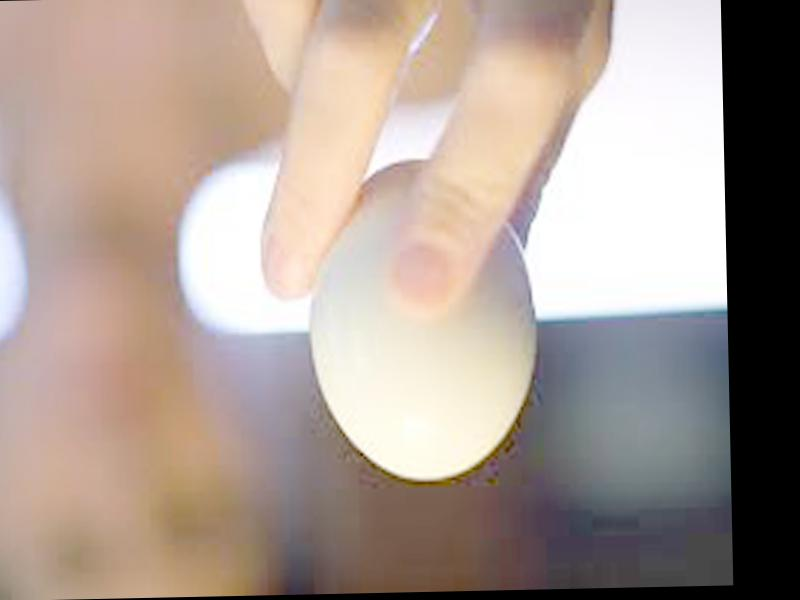Eggs: (301, 156, 535, 482)
